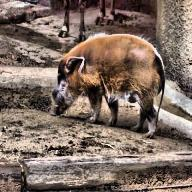boar: (52, 20, 184, 128)
